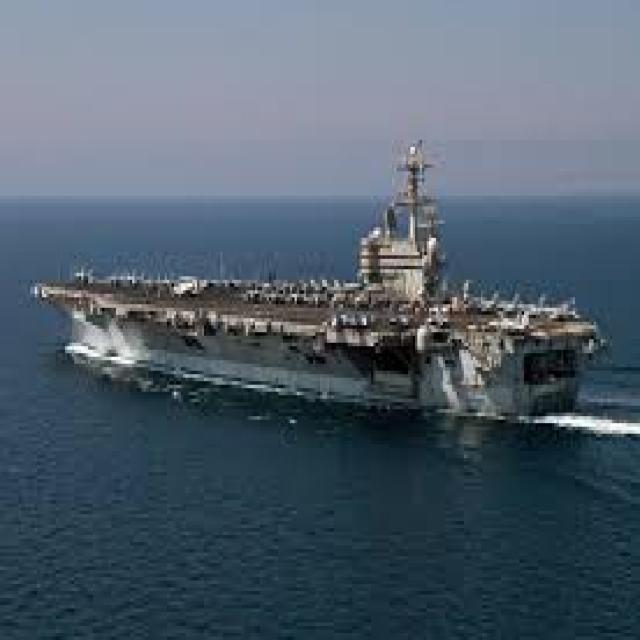navalvessels: (19, 147, 609, 430)
